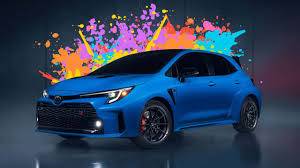car: (34, 48, 263, 148)
